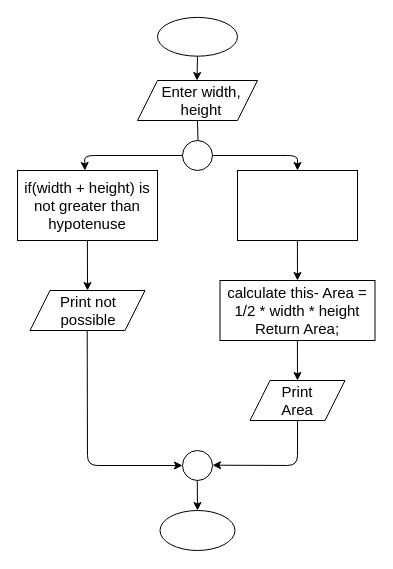
This 393x569 diagram has some shape labels left out. Here are the shapes that lost their labels. From the top down, the box of each, then its label:
(156, 16, 238, 56): Start
(236, 170, 358, 240): if (width + height) >= hypotenuse
(159, 510, 235, 550): End
